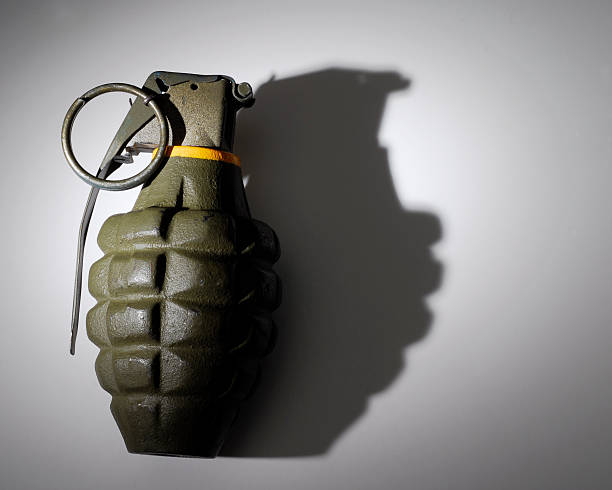e1: (60, 73, 281, 458)
